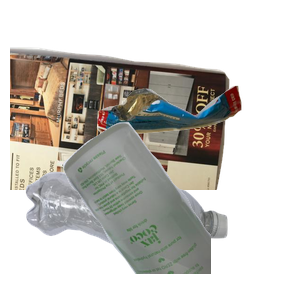glass: (60, 120, 300, 300)
paper: (10, 44, 232, 224)
plastic: (23, 169, 243, 300)
trash: (94, 83, 300, 210)
